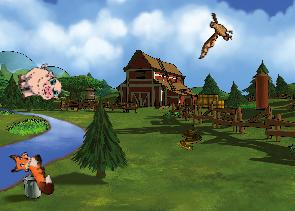eagle: (197, 12, 233, 59)
fox: (5, 143, 57, 204)
pig: (14, 61, 63, 108)
